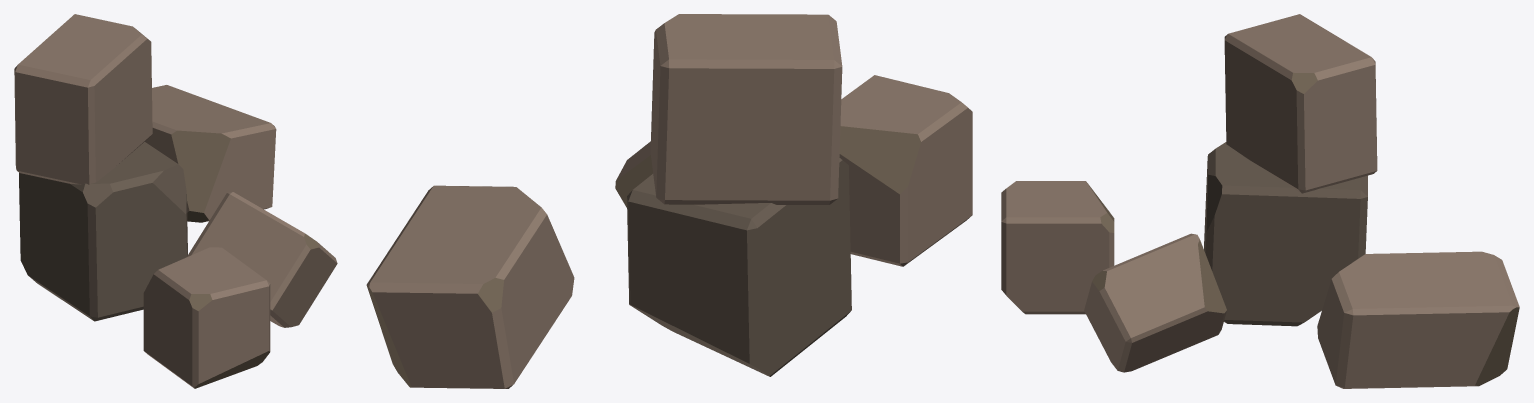
File: StonesLoose2.fbx
The picture shows the model from 3 angles, left to right: view 1: azimuth 30°, elevation 25°; view 2: azimuth 150°, elevation 25°; view 3: azimuth 270°, elevation 25°; orthographic projection. The views are drawn at different scales.
Parts seen in each view (by area): view 1: Cube.016; view 2: Cube.016; view 3: Cube.016.
Part boxes in pixels (bbox=[...]): Cube.016: bbox=[14, 14, 337, 388]; Cube.016: bbox=[366, 14, 972, 388]; Cube.016: bbox=[1001, 14, 1519, 388].
Size of the model in its own units: 297 by 249 by 443.
